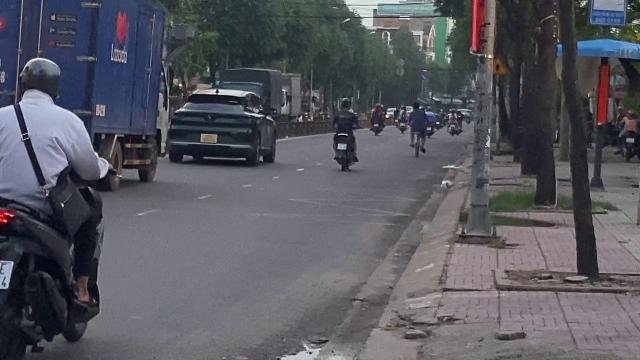helmet: (16, 56, 62, 100)
motorcyclist: (0, 53, 112, 356)
